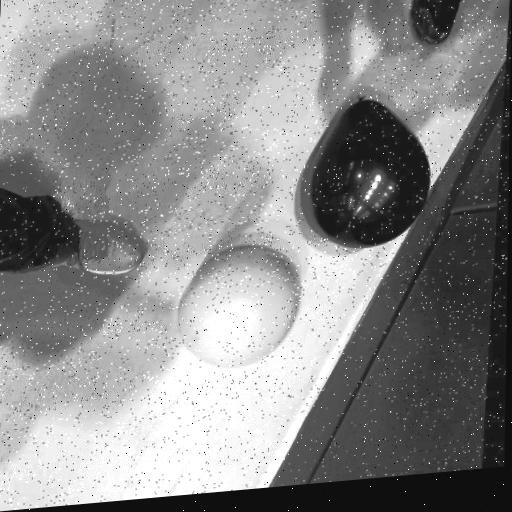balloon: (301, 91, 436, 253), (178, 239, 305, 371)
